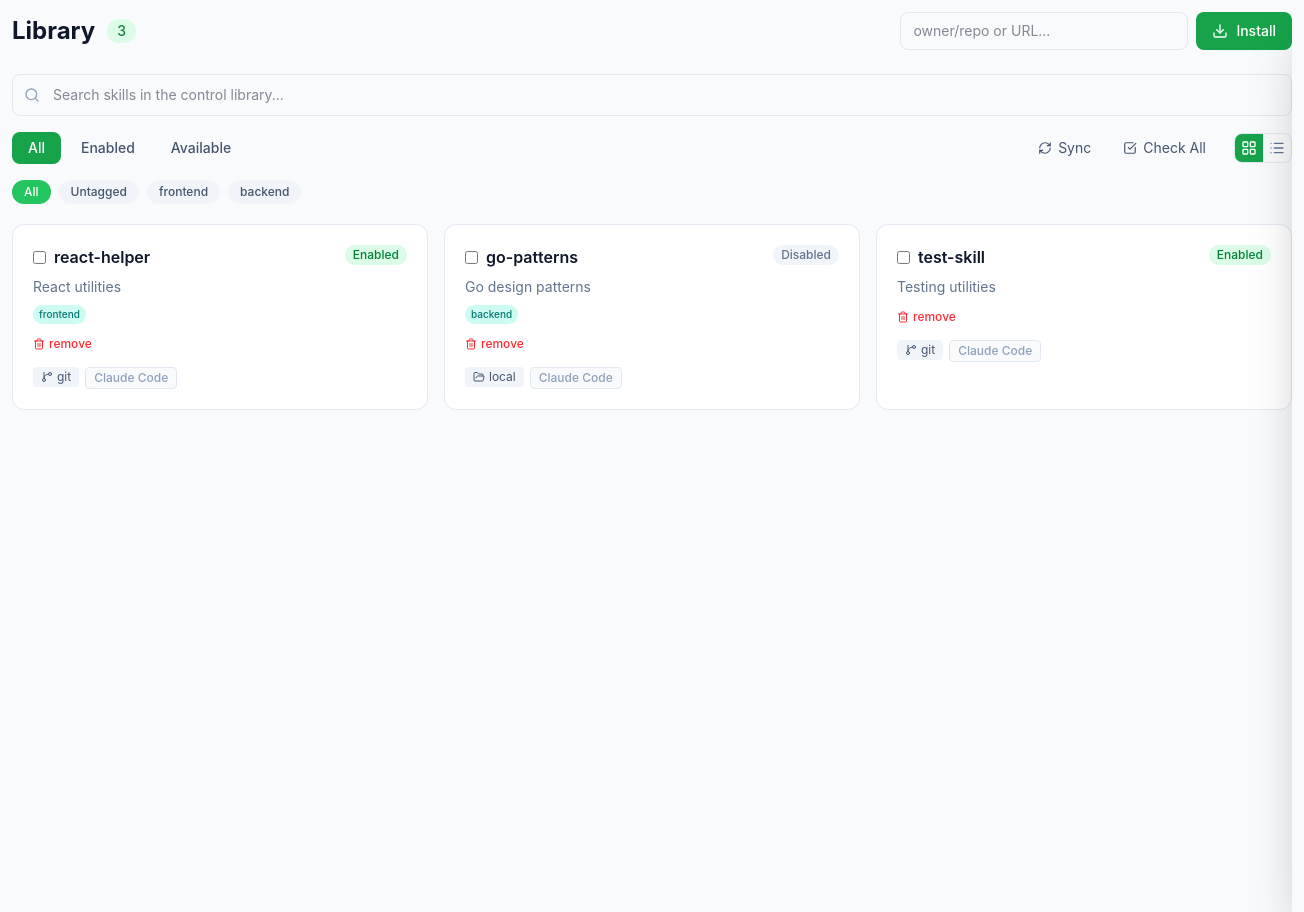
SkillsLibrary › filters by Enabled tab
Expected: the heading "react-helper" is shown, [54,245,150,269]
# The tab button is the first "Enabled" button (before the card badges)
Click the 1st button "Enabled": (108, 148) [65,132,151,164]
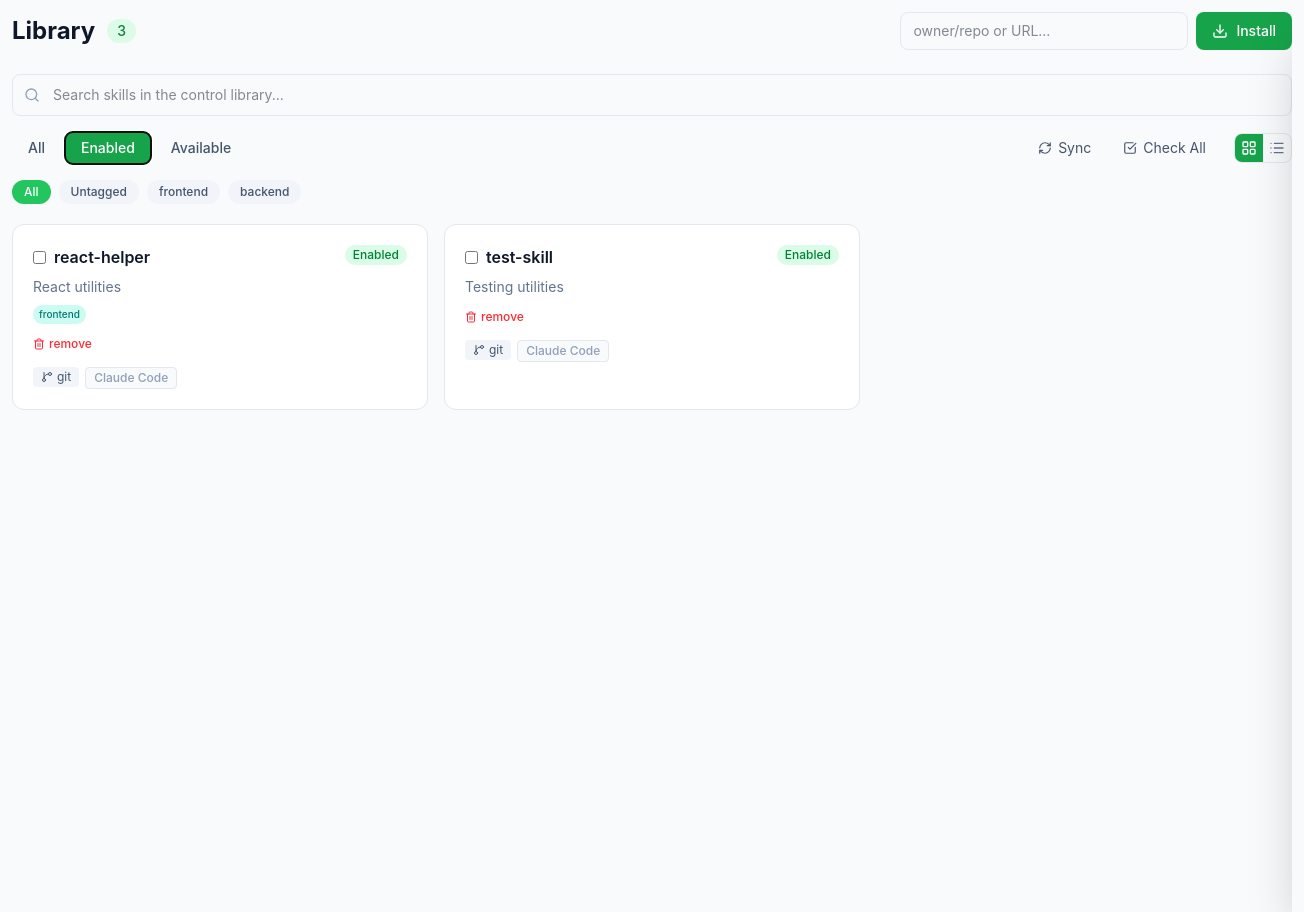
Expected: the heading "react-helper" is shown, [54,245,150,269]
Expected: the heading "go-patterns" is gone
